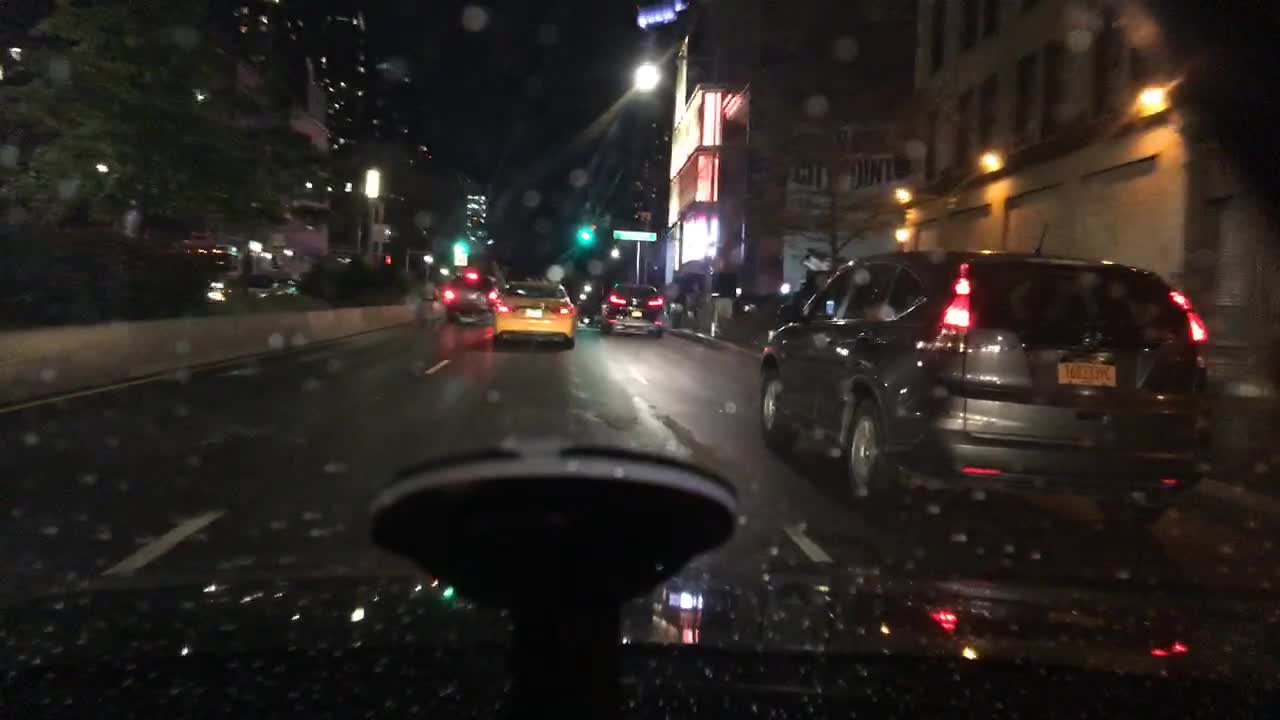car: (758, 249, 1214, 531), (491, 276, 578, 349), (597, 282, 671, 337), (438, 267, 502, 320), (203, 273, 238, 307), (245, 272, 275, 302), (578, 309, 606, 330), (272, 278, 302, 297)
traffic light: (578, 228, 592, 242), (455, 240, 467, 252), (384, 254, 390, 265)
traffic sign: (614, 230, 655, 242), (452, 253, 467, 266)
